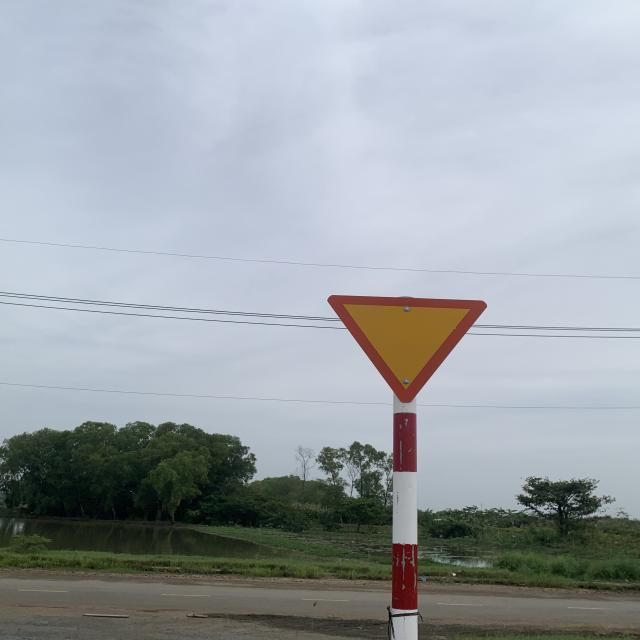Gioi_Han_Toc_Do_25: (327, 294, 489, 401)
